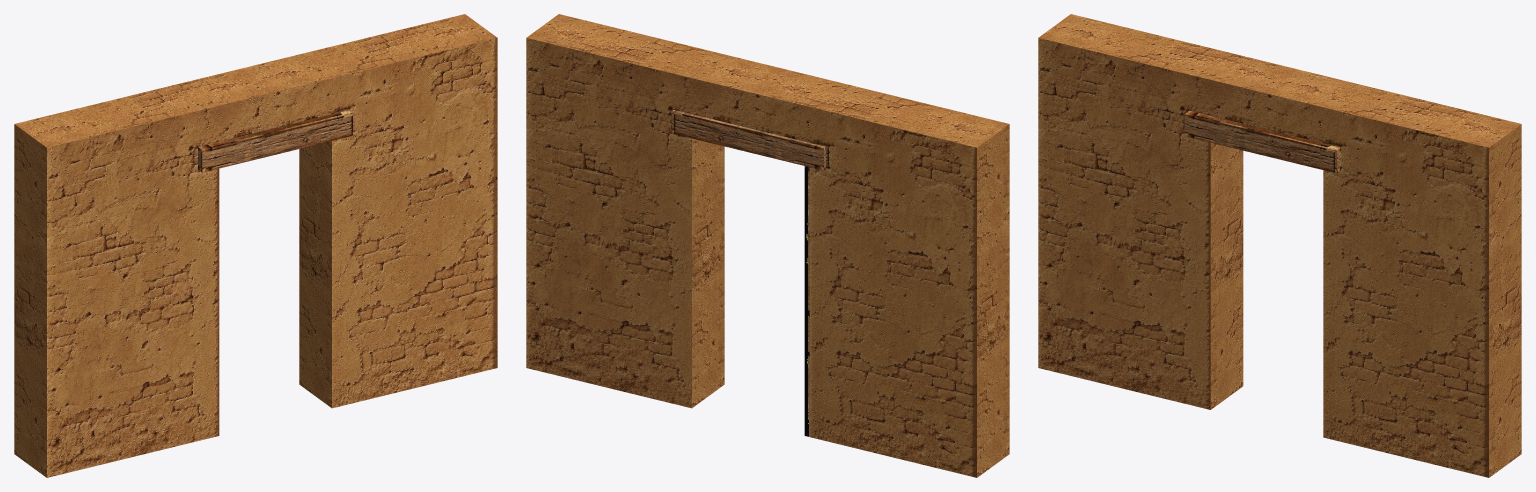
Rendered from wall_door.glb.
3 renders of one model, left to right at view 1: azimuth 30°, elevation 25°; view 2: azimuth 150°, elevation 25°; view 3: azimuth 330°, elevation 25°, orthographic.
Parts seen in each view (by area): view 1: WallDoor, Lintel; view 2: WallDoor, Lintel; view 3: WallDoor, Lintel.
Part boxes in pixels (x1,y1,x2,y2): WallDoor: [14, 14, 497, 477]; Lintel: [198, 110, 354, 172]; WallDoor: [526, 14, 1009, 477]; Lintel: [672, 110, 825, 170]; WallDoor: [1038, 14, 1521, 477]; Lintel: [1184, 110, 1341, 173].
Bounding box in the file's own units: 4 × 2.8 × 0.6.
3 materials, 3 textured.
